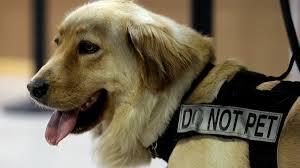dog: (18, 2, 237, 168)
